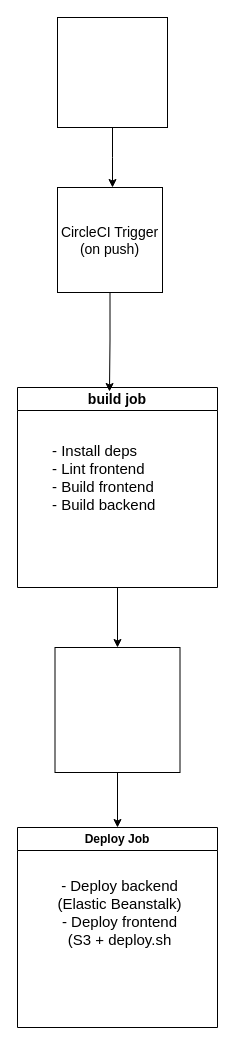
Some shapes in this 235 by 1045 pixel diagram are drawn without their labels. The shapes that lost their labels are listed below. From the top down, each one's centre as x and y in pixels, then its label:
At point 112,72: "Github Repo (Push to master)".
At point 117,709: "hold job (Manual approval)".
